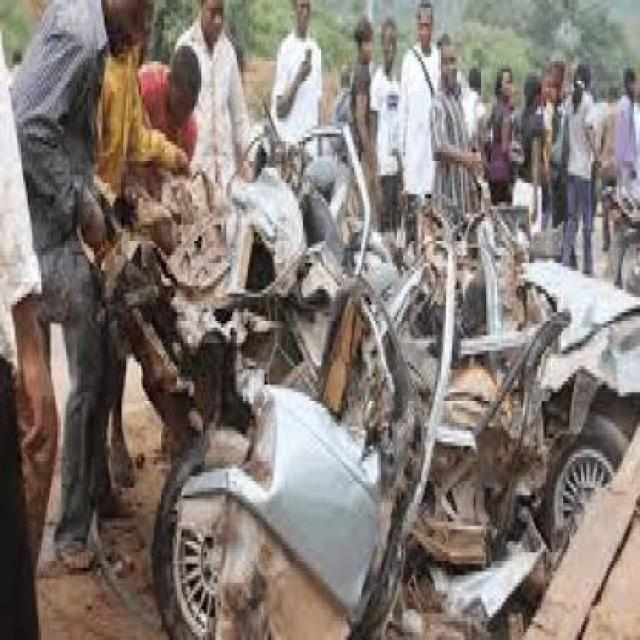accident: (89, 98, 640, 640)
